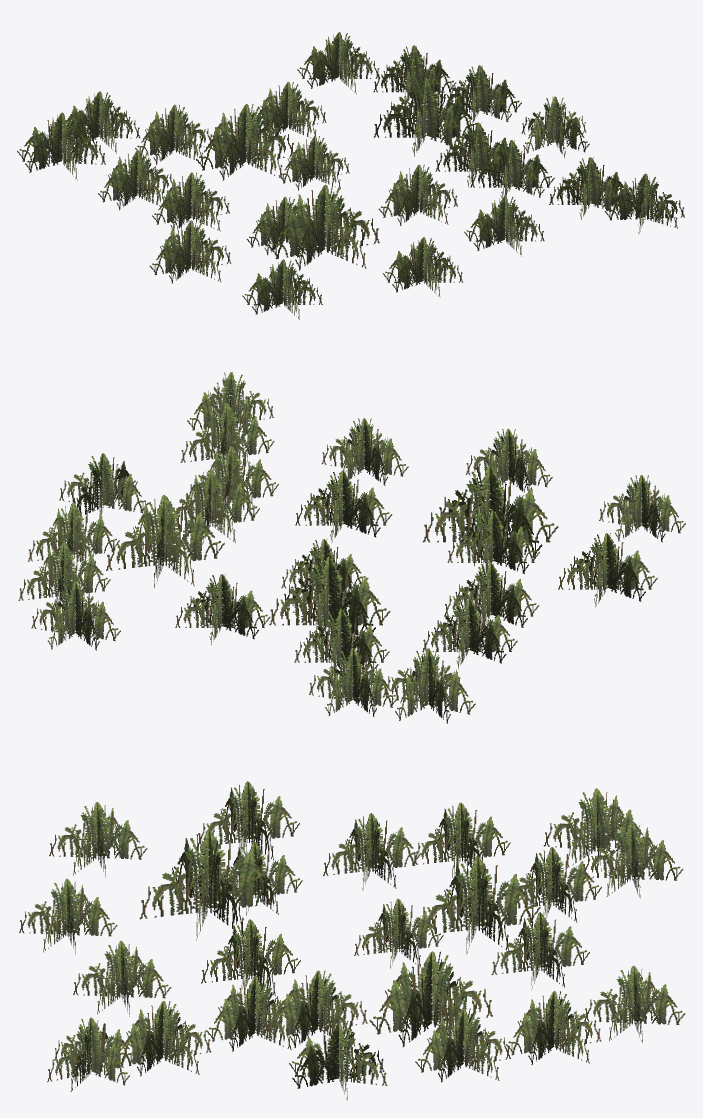
Rendered from grasstest5.obj.
3 views of the same model, one above another, from view 1: azimuth 30°, elevation 25°; view 2: azimuth 150°, elevation 25°; view 3: azimuth 270°, elevation 25° (orthographic). The views are drawn at different scales.
Parts seen in each view (by area): view 1: Plane010, Plane022, Plane017, Plane026, Plane014, Plane008, Plane006, Plane019, Plane013, Plane024, Plane023, Plane005 (+12 smaller); view 2: Plane010, Plane017, Plane022, Plane026, Plane014, Plane008, Plane023, Plane020, Plane025, Plane019, Plane007, Plane012 (+12 smaller); view 3: Plane010, Plane017, Plane022, Plane007, Plane004, Plane016, Plane015, Plane018, Plane006, Plane014, Plane019, Plane026 (+12 smaller).
Part boxes in pixels (bbox=[...]): Plane010: bbox=[269, 184, 379, 270]; Plane022: bbox=[196, 104, 293, 180]; Plane017: bbox=[373, 77, 476, 156]; Plane026: bbox=[17, 112, 105, 180]; Plane014: bbox=[149, 220, 231, 283]; Plane008: bbox=[378, 164, 457, 225]; Plane006: bbox=[470, 140, 554, 198]; Plane019: bbox=[297, 32, 379, 94]; Plane013: bbox=[152, 172, 229, 231]; Plane024: bbox=[135, 104, 211, 164]; Plane023: bbox=[98, 150, 174, 210]; Plane005: bbox=[464, 196, 544, 256]; Plane010: bbox=[422, 465, 558, 566]; Plane017: bbox=[106, 495, 224, 587]; Plane022: bbox=[269, 556, 390, 639]; Plane026: bbox=[383, 648, 475, 723]; Plane014: bbox=[558, 533, 657, 607]; Plane008: bbox=[295, 470, 392, 542]; Plane023: bbox=[422, 598, 517, 668]; Plane020: bbox=[175, 574, 270, 644]; Plane025: bbox=[309, 647, 398, 716]; Plane019: bbox=[31, 581, 120, 650]; Plane007: bbox=[173, 469, 259, 544]; Plane012: bbox=[447, 510, 539, 573]; Plane010: bbox=[139, 829, 279, 940]; Plane017: bbox=[369, 951, 492, 1046]; Plane022: bbox=[416, 856, 540, 954]; Plane007: bbox=[267, 970, 367, 1048]; Plane004: bbox=[120, 1001, 211, 1076]; Plane016: bbox=[415, 1008, 510, 1082]; Plane015: bbox=[289, 1023, 387, 1100]; Plane018: bbox=[505, 991, 601, 1064]; Plane006: bbox=[206, 976, 300, 1051]; Plane014: bbox=[197, 781, 299, 860]; Plane019: bbox=[584, 965, 685, 1042]; Plane026: bbox=[543, 788, 649, 871].
Size of the model in its own units: 3143 by 434 by 3118.
1 material, 1 textured.
